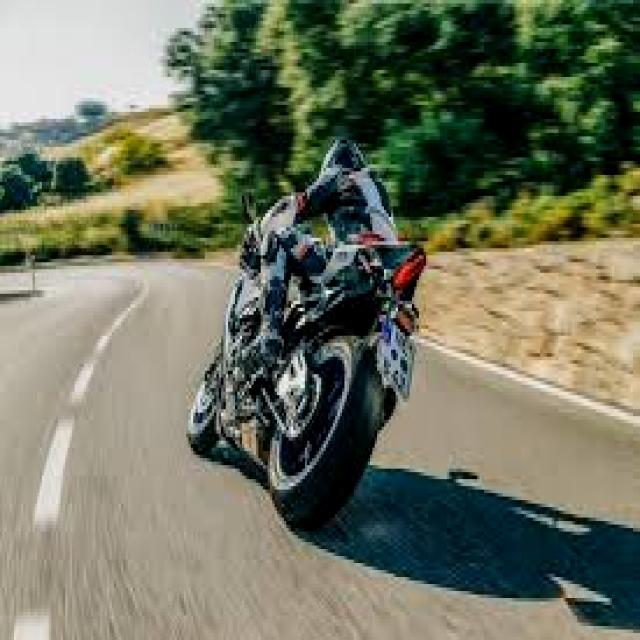MOTORCYCLE: (183, 228, 424, 566)
